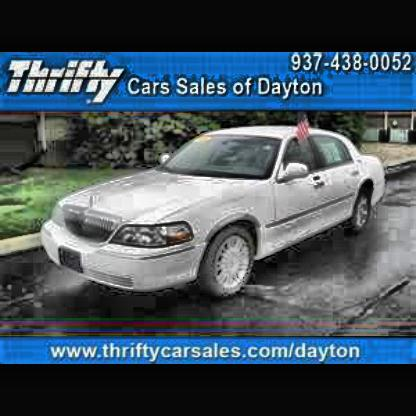Lincoln Town Car Sedan 2011: (37, 121, 393, 301)
